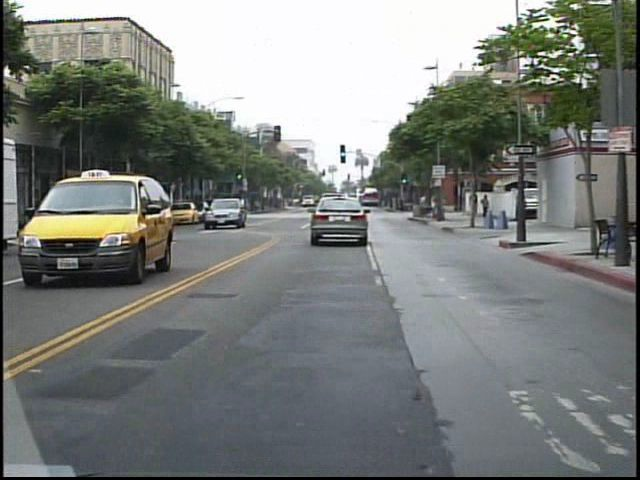person: (460, 184, 475, 225), (410, 188, 428, 220), (473, 189, 488, 223)
